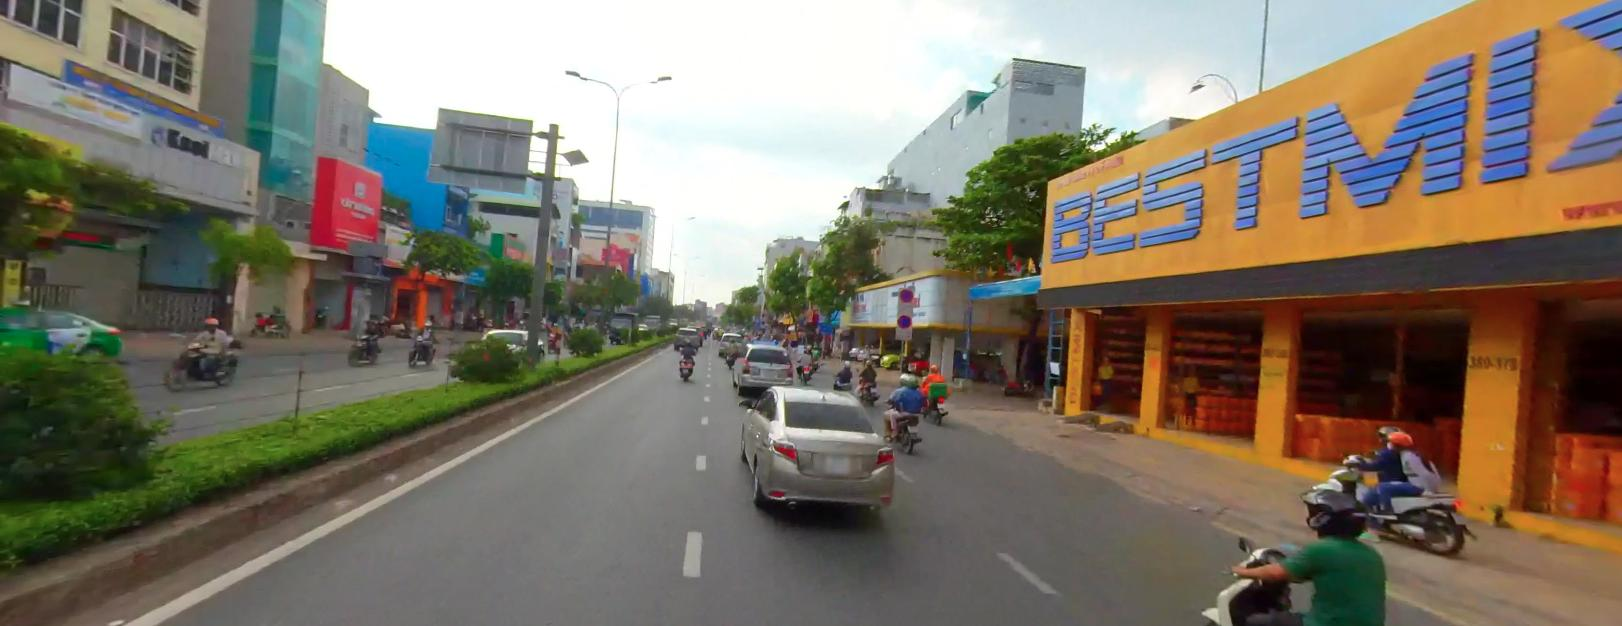Cam dung va do: (897, 314, 910, 327), (899, 287, 911, 300)
